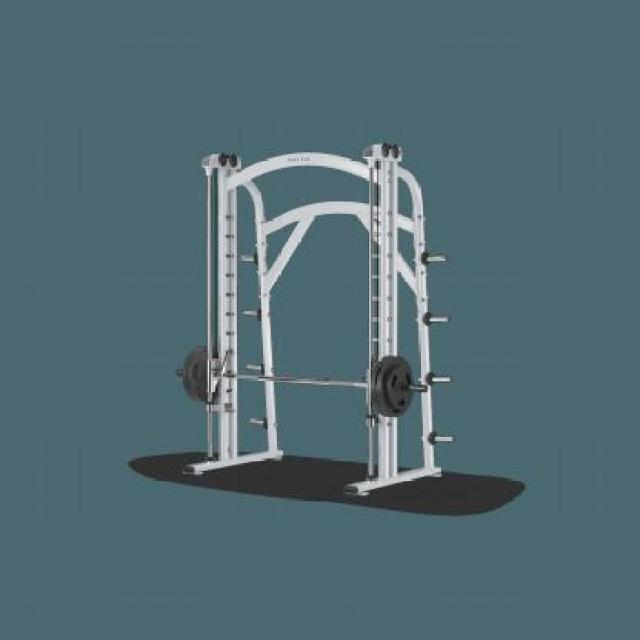smith machine: (175, 140, 458, 497)
